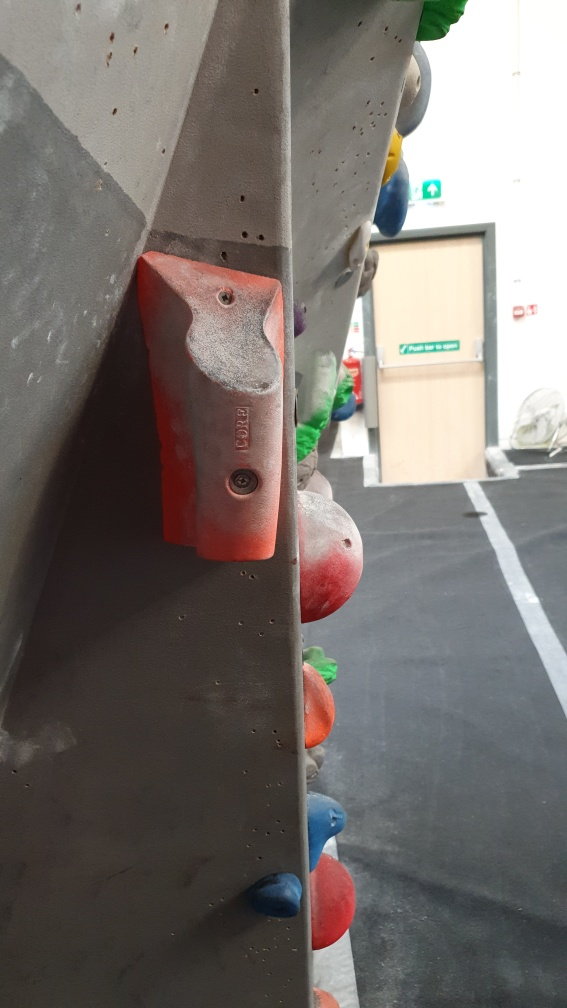Pinch: (136, 249, 287, 565)
Sloper: (295, 485, 365, 629), (306, 846, 359, 952)
